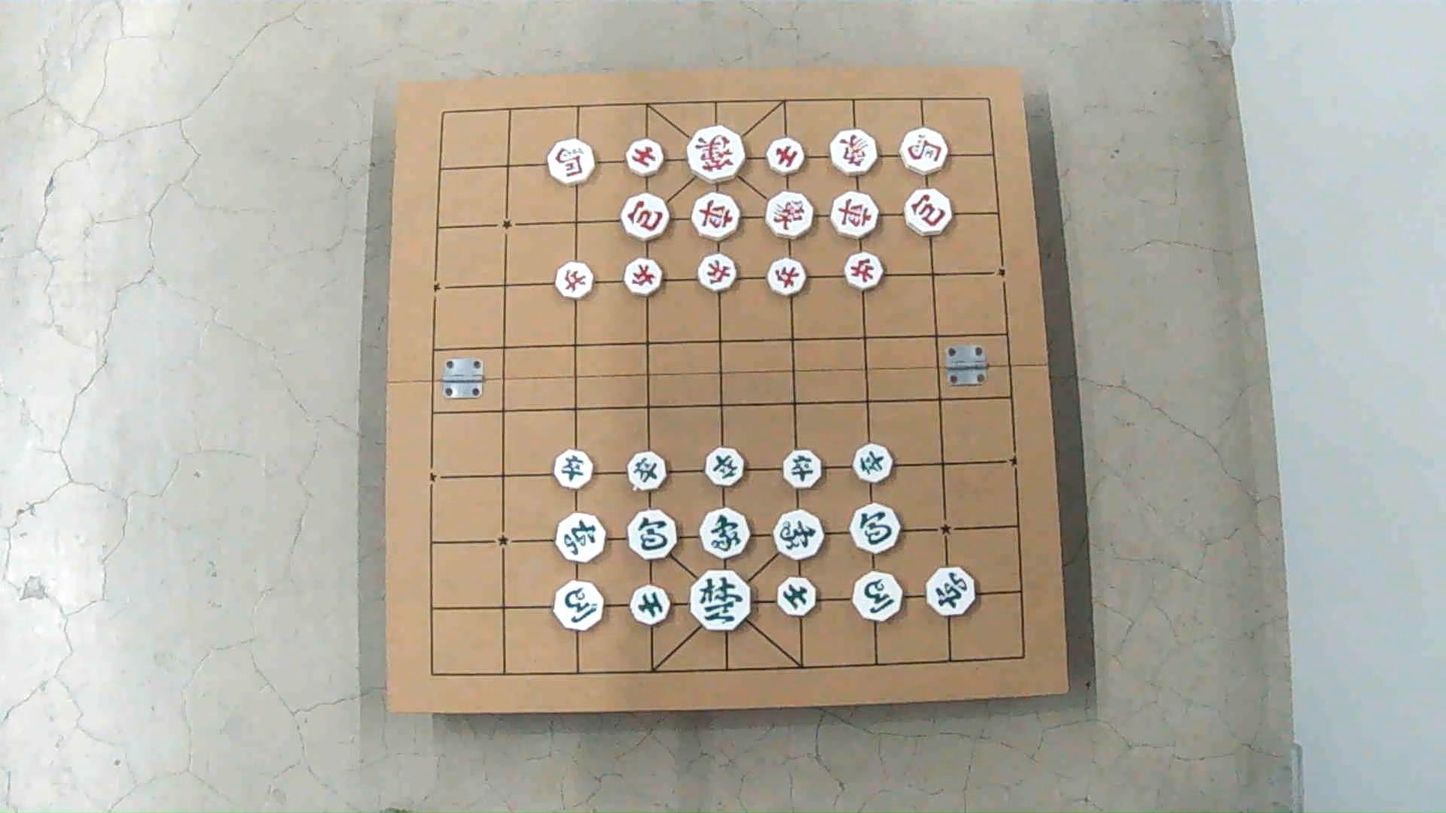cha_green: (556, 513, 606, 562), (926, 567, 975, 616)
cha_red: (692, 193, 739, 239), (831, 192, 878, 238)
jol_green: (783, 449, 822, 489), (853, 444, 892, 483), (627, 452, 666, 491), (704, 448, 743, 486), (554, 449, 591, 489)
jol_red: (844, 252, 883, 290), (697, 254, 735, 291), (555, 262, 593, 299), (624, 258, 662, 295), (768, 258, 805, 295)
ma_green: (554, 581, 603, 630), (853, 572, 901, 620)
ma_red: (900, 128, 947, 174), (547, 139, 594, 184)
po_green: (628, 510, 677, 560), (850, 504, 900, 553)
po_red: (621, 193, 668, 241), (904, 189, 950, 236)
sa_green: (777, 577, 816, 616), (631, 585, 669, 625)
sa_red: (625, 139, 664, 176), (767, 137, 804, 175)
sang_green: (700, 508, 750, 559), (773, 510, 823, 560)
sang_red: (830, 129, 877, 175), (766, 192, 813, 238)
wang_green: (690, 569, 751, 631)
wang_red: (688, 126, 744, 181)
